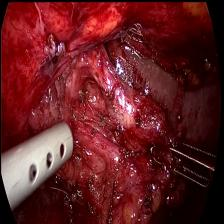Grasper: (142, 128, 218, 195)
Irrigator: (0, 114, 77, 207)
